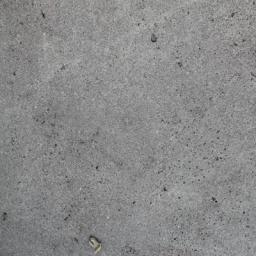FOD: (87, 233, 106, 256)
